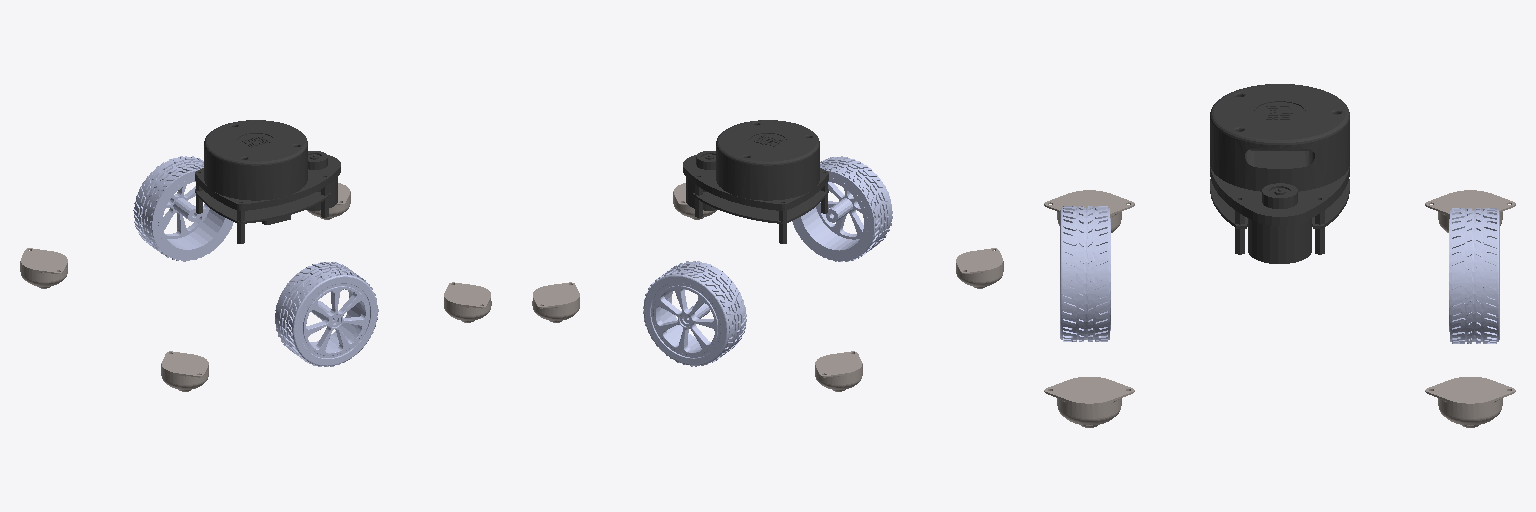
robot.urdf — agv_urdf:
<?xml version="1.0" encoding="utf-8"?>
<!-- This URDF was automatically created by SolidWorks to URDF Exporter! Originally created by [author] ([email redacted]) 
     Commit Version: 1.6.0-4-g7f85cfe  Build Version: 1.6.7995.38578
     For more information, please see http://wiki.ros.org/sw_urdf_exporter -->
<robot
  name="agv_urdf">
  <link
    name="base_link">
    <inertial>
      <origin
        xyz="0.0158113057544982 -0.00142019642296115 0.0301376227857992"
        rpy="0 0 0" />
      <mass
        value="1.26164162297982" />
      <inertia
        ixx="0.00559162657435222"
        ixy="1.29976054416456E-06"
        ixz="5.20652580120042E-05"
        iyy="0.00700570051915973"
        iyz="-4.3171949397396E-07"
        izz="0.0120377937635134" />
    </inertial>
    <visual>
      <origin
        xyz="0 0 0"
        rpy="0 0 0" />
      <geometry>
        <mesh
          filename="package://step_01_robot_description/meshes/base_link.STL" />
      </geometry>
      <material
        name="">
        <color
          rgba="0.792156862745098 0.819607843137255 0.933333333333333 1" />
      </material>
    </visual>
    <collision>
      <origin
        xyz="0 0 0"
        rpy="0 0 0" />
      <geometry>
        <mesh
          filename="package://step_01_robot_description/meshes/base_link.STL" />
      </geometry>
    </collision>
  </link>
  <link
    name="Wheel_right">
    <inertial>
      <origin
        xyz="-6.77892038325467E-06 0.00878337503055526 -6.04590711569841E-06"
        rpy="0 0 0" />
      <mass
        value="0.0444228549638229" />
      <inertia
        ixx="2.01439514117687E-05"
        ixy="1.08786988884335E-10"
        ixz="7.2514336287529E-09"
        iyy="3.55612270317391E-05"
        iyz="-2.13109351732938E-10"
        izz="2.0144556915686E-05" />
    </inertial>
    <visual>
      <origin
        xyz="0 0 0"
        rpy="0 0 0" />
      <geometry>
        <mesh
          filename="package://step_01_robot_description/meshes/Wheel_right.STL" />
      </geometry>
      <material
        name="">
        <color
          rgba="0.792156862745098 0.819607843137255 0.933333333333333 1" />
      </material>
    </visual>
    <collision>
      <origin
        xyz="0 0 0"
        rpy="0 0 0" />
      <geometry>
        <mesh
          filename="package://step_01_robot_description/meshes/Wheel_right.STL" />
      </geometry>
    </collision>
  </link>
  <joint
    name="Wheel_right_jt"
    type="continuous">
    <origin
      xyz="-0.00097938 -0.1065 0.013"
      rpy="0 0 0" />
    <parent
      link="base_link" />
    <child
      link="Wheel_right" />
    <axis
      xyz="0 1 0" />
  </joint>
  <link
    name="Wheel_left">
    <inertial>
      <origin
        xyz="6.84306026305093E-06 -0.0087833750304501 5.97320507063283E-06"
        rpy="0 0 0" />
      <mass
        value="0.0444228549621077" />
      <inertia
        ixx="2.01463395995947E-05"
        ixy="-1.97902606325867E-10"
        ixz="6.95168400298356E-09"
        iyy="3.55612270305918E-05"
        iyz="1.34479474223863E-10"
        izz="2.01421687267013E-05" />
    </inertial>
    <visual>
      <origin
        xyz="0 0 0"
        rpy="0 0 0" />
      <geometry>
        <mesh
          filename="package://step_01_robot_description/meshes/Wheel_left.STL" />
      </geometry>
      <material
        name="">
        <color
          rgba="0.792156862745098 0.819607843137255 0.933333333333333 1" />
      </material>
    </visual>
    <collision>
      <origin
        xyz="0 0 0"
        rpy="0 0 0" />
      <geometry>
        <mesh
          filename="package://step_01_robot_description/meshes/Wheel_left.STL" />
      </geometry>
    </collision>
  </link>
  <joint
    name="Wheel_left_jt"
    type="continuous">
    <origin
      xyz="0.0010206 0.1065 0.013"
      rpy="0 0 0" />
    <parent
      link="base_link" />
    <child
      link="Wheel_left" />
    <axis
      xyz="0 1 0" />
  </joint>
  <link
    name="MT_up_left">
    <inertial>
      <origin
        xyz="-2.77555756156289E-17 2.77555756156289E-17 0.0127957030881675"
        rpy="0 0 0" />
      <mass
        value="0.0114608893813283" />
      <inertia
        ixx="9.23796782399639E-07"
        ixy="-5.20030944551867E-14"
        ixz="-1.47089664761454E-21"
        iyy="8.85896298688249E-07"
        iyz="3.00344316134755E-23"
        izz="1.34461458261358E-06" />
    </inertial>
    <visual>
      <origin
        xyz="0 0 0"
        rpy="0 0 0" />
      <geometry>
        <mesh
          filename="package://step_01_robot_description/meshes/MT_up_left.STL" />
      </geometry>
      <material
        name="">
        <color
          rgba="0.690196078431373 0.658823529411765 0.63921568627451 1" />
      </material>
    </visual>
    <collision>
      <origin
        xyz="0 0 0"
        rpy="0 0 0" />
      <geometry>
        <mesh
          filename="package://step_01_robot_description/meshes/MT_up_left.STL" />
      </geometry>
    </collision>
  </link>
  <joint
    name="MT_up_left_jt"
    type="fixed">
    <origin
      xyz="0.11002 0.095 -0.019"
      rpy="0 0 0" />
    <parent
      link="base_link" />
    <child
      link="MT_up_left" />
    <axis
      xyz="0 0 0" />
  </joint>
  <link
    name="MT_up_right">
    <inertial>
      <origin
        xyz="-5.55111512312578E-17 5.55111512312578E-17 0.0127957030881675"
        rpy="0 0 0" />
      <mass
        value="0.0114608893813283" />
      <inertia
        ixx="9.23796782399638E-07"
        ixy="-5.20030942586909E-14"
        ixz="-1.44159798995471E-21"
        iyy="8.85896298688249E-07"
        iyz="-1.00751588686331E-22"
        izz="1.34461458261358E-06" />
    </inertial>
    <visual>
      <origin
        xyz="0 0 0"
        rpy="0 0 0" />
      <geometry>
        <mesh
          filename="package://step_01_robot_description/meshes/MT_up_right.STL" />
      </geometry>
      <material
        name="">
        <color
          rgba="0.690196078431373 0.658823529411765 0.63921568627451 1" />
      </material>
    </visual>
    <collision>
      <origin
        xyz="0 0 0"
        rpy="0 0 0" />
      <geometry>
        <mesh
          filename="package://step_01_robot_description/meshes/MT_up_right.STL" />
      </geometry>
    </collision>
  </link>
  <joint
    name="MT_up_right_jt"
    type="fixed">
    <origin
      xyz="0.11002 -0.095 -0.019"
      rpy="0 0 0" />
    <parent
      link="base_link" />
    <child
      link="MT_up_right" />
    <axis
      xyz="0 0 0" />
  </joint>
  <link
    name="MT_behind_left">
    <inertial>
      <origin
        xyz="0 2.77555756156289E-17 0.0127957030881675"
        rpy="0 0 0" />
      <mass
        value="0.0114608893813283" />
      <inertia
        ixx="9.23796782399639E-07"
        ixy="-5.20030943431053E-14"
        ixz="-1.53995858062195E-21"
        iyy="8.8589629868825E-07"
        iyz="4.55127663837556E-23"
        izz="1.34461458261358E-06" />
    </inertial>
    <visual>
      <origin
        xyz="0 0 0"
        rpy="0 0 0" />
      <geometry>
        <mesh
          filename="package://step_01_robot_description/meshes/MT_behind_left.STL" />
      </geometry>
      <material
        name="">
        <color
          rgba="0.690196078431373 0.658823529411765 0.63921568627451 1" />
      </material>
    </visual>
    <collision>
      <origin
        xyz="0 0 0"
        rpy="0 0 0" />
      <geometry>
        <mesh
          filename="package://step_01_robot_description/meshes/MT_behind_left.STL" />
      </geometry>
    </collision>
  </link>
  <joint
    name="MT_behind_left_jt"
    type="fixed">
    <origin
      xyz="-0.10998 0.095 -0.019"
      rpy="0 0 0" />
    <parent
      link="base_link" />
    <child
      link="MT_behind_left" />
    <axis
      xyz="0 0 0" />
  </joint>
  <link
    name="MT_behind_right">
    <inertial>
      <origin
        xyz="1.11022302462516E-16 5.55111512312578E-17 0.0127957030881676"
        rpy="0 0 0" />
      <mass
        value="0.0114608893813283" />
      <inertia
        ixx="9.23796782399639E-07"
        ixy="-5.20030947803236E-14"
        ixz="-1.45683296199485E-21"
        iyy="8.8589629868825E-07"
        iyz="-1.16610393998141E-22"
        izz="1.34461458261358E-06" />
    </inertial>
    <visual>
      <origin
        xyz="0 0 0"
        rpy="0 0 0" />
      <geometry>
        <mesh
          filename="package://step_01_robot_description/meshes/MT_behind_right.STL" />
      </geometry>
      <material
        name="">
        <color
          rgba="0.690196078431373 0.658823529411765 0.63921568627451 1" />
      </material>
    </visual>
    <collision>
      <origin
        xyz="0 0 0"
        rpy="0 0 0" />
      <geometry>
        <mesh
          filename="package://step_01_robot_description/meshes/MT_behind_right.STL" />
      </geometry>
    </collision>
  </link>
  <joint
    name="MT_behind_right_jt"
    type="fixed">
    <origin
      xyz="-0.10998 -0.095 -0.019"
      rpy="0 0 0" />
    <parent
      link="base_link" />
    <child
      link="MT_behind_right" />
    <axis
      xyz="0 0 0" />
  </joint>
  <link
    name="lidar">
    <inertial>
      <origin
        xyz="0.00613373292374306 -0.000194739234815999 -0.0223629310337731"
        rpy="0 0 0" />
      <mass
        value="0.167234520956808" />
      <inertia
        ixx="7.83297952695099E-05"
        ixy="-9.41525292178444E-08"
        ixz="2.21315211543089E-05"
        iyy="0.000121710164909535"
        iyz="-3.97402221956207E-07"
        izz="0.000140309987003384" />
    </inertial>
    <visual>
      <origin
        xyz="0 0 0"
        rpy="0 0 0" />
      <geometry>
        <mesh
          filename="package://step_01_robot_description/meshes/lidar.STL" />
      </geometry>
      <material
        name="">
        <color
          rgba="0.298039215686275 0.298039215686275 0.298039215686275 1" />
      </material>
    </visual>
    <collision>
      <origin
        xyz="0 0 0"
        rpy="0 0 0" />
      <geometry>
        <mesh
          filename="package://step_01_robot_description/meshes/lidar.STL" />
      </geometry>
    </collision>
  </link>
  <joint
    name="lidar_jt"
    type="fixed">
    <origin
      xyz="-1.6491E-05 9.9081E-05 0.1022"
      rpy="0 0 0" />
    <parent
      link="base_link" />
    <child
      link="lidar" />
    <axis
      xyz="0 0 0" />
  </joint>
</robot>

--- Render facts (derived) ---
Views: 3 orthographic renders of the robot side by side, from view 1: azimuth 30°, elevation 25°; view 2: azimuth 150°, elevation 25°; view 3: azimuth 270°, elevation 25°.
Robot: agv_urdf — 8 links, 7 joints (2 continuous, 5 fixed); root link base_link; default pose: all joints at 0.
Visible links, largest first — view 1: lidar, Wheel_right, Wheel_left, MT_behind_left, MT_behind_right, MT_up_right; view 2: lidar, Wheel_left, Wheel_right, MT_behind_right, MT_behind_left, MT_up_left; view 3: lidar, Wheel_right, Wheel_left, MT_up_left, MT_up_right, MT_behind_left, MT_behind_right.
Boxes of the visible links, x1,y1,x2,y2 form: lidar: (195,120,340,243); Wheel_right: (275,262,378,366); Wheel_left: (133,156,233,261); MT_behind_left: (20,248,67,288); MT_behind_right: (161,351,208,391); MT_up_right: (444,282,491,322); lidar: (683,120,828,243); Wheel_left: (643,261,746,366); Wheel_right: (792,156,892,261); MT_behind_right: (956,248,1003,288); MT_behind_left: (815,351,862,391); MT_up_left: (532,282,579,322); lidar: (1210,84,1349,263); Wheel_right: (1060,206,1110,341); Wheel_left: (1449,208,1499,343); MT_up_left: (1425,377,1515,427); MT_up_right: (1044,377,1134,427); MT_behind_left: (1425,190,1515,232); MT_behind_right: (1044,190,1134,232).
Size in the robot's own frame: 0.252 by 0.2349 by 0.1237 metres.
Meshes: 8 distinct files referenced, 7 mesh visuals loaded (7 binary STL); not drawn: 1 (reference not matched to a file when rendering).